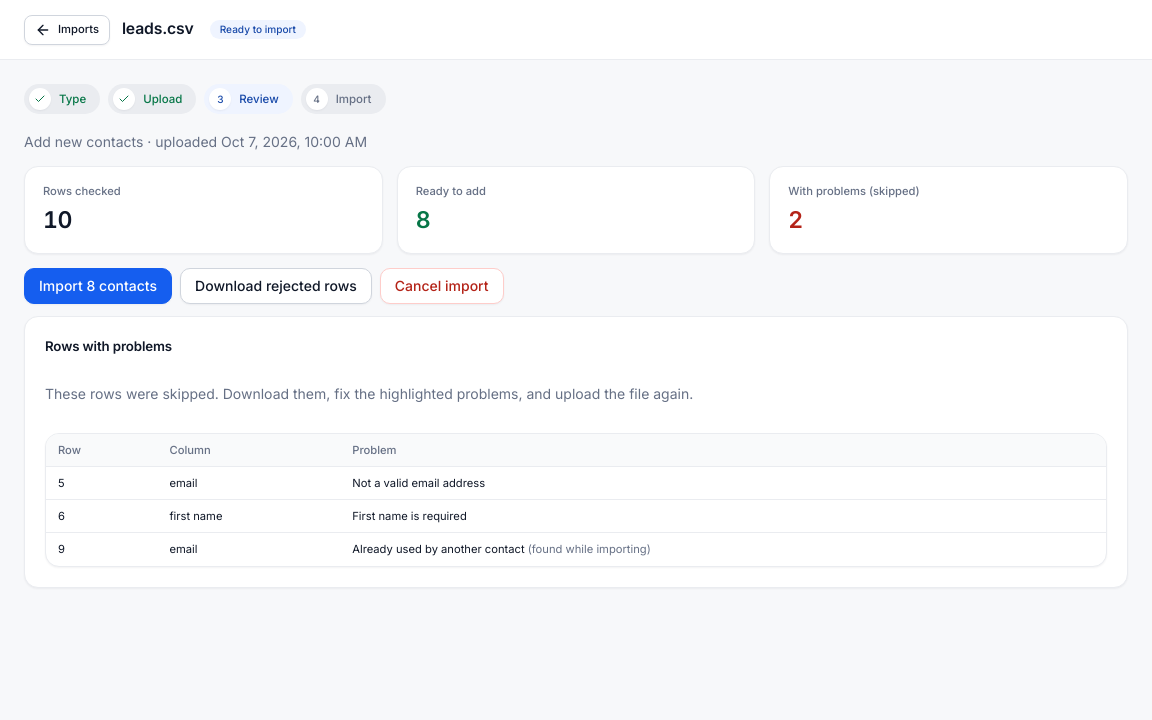
Scenario: ImportJobView › shows a friendly message when the confirm is refused (409) and refreshes the job
Click the button "Import 8 contacts". click: [98, 286]
box: top-left (24, 268), bottom-right (172, 304)
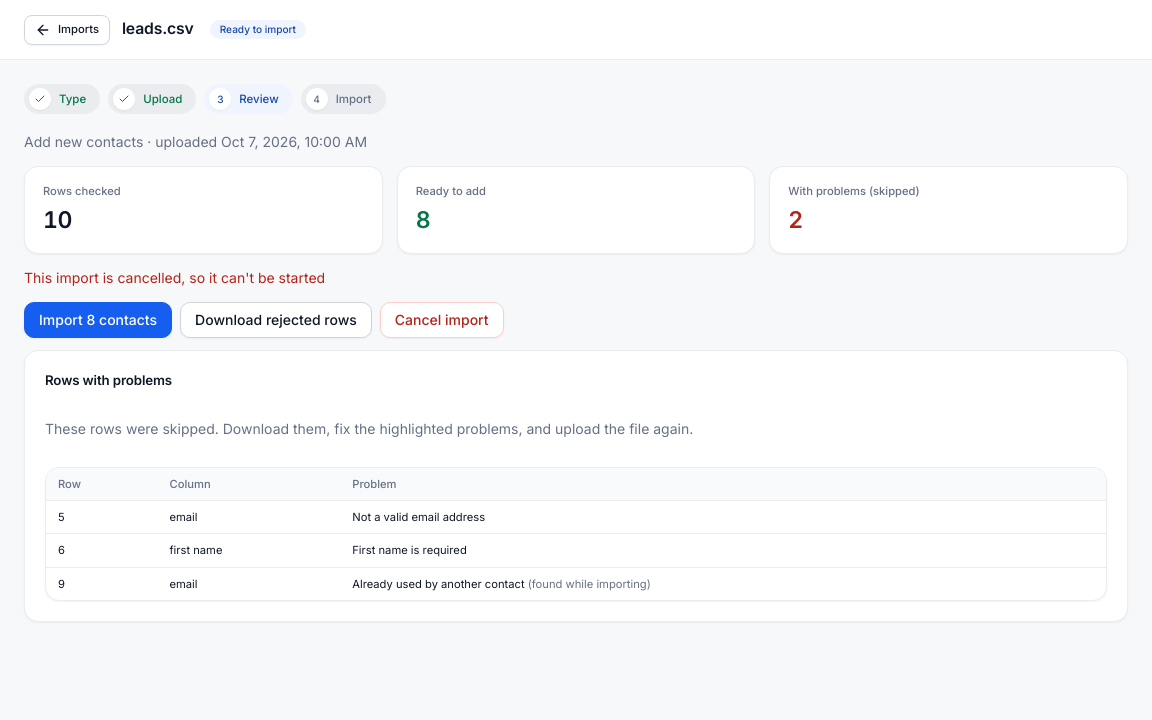
Expected: the message "This import is cancelled, so it can't be started" is shown, top-left (24, 269), bottom-right (325, 286)
